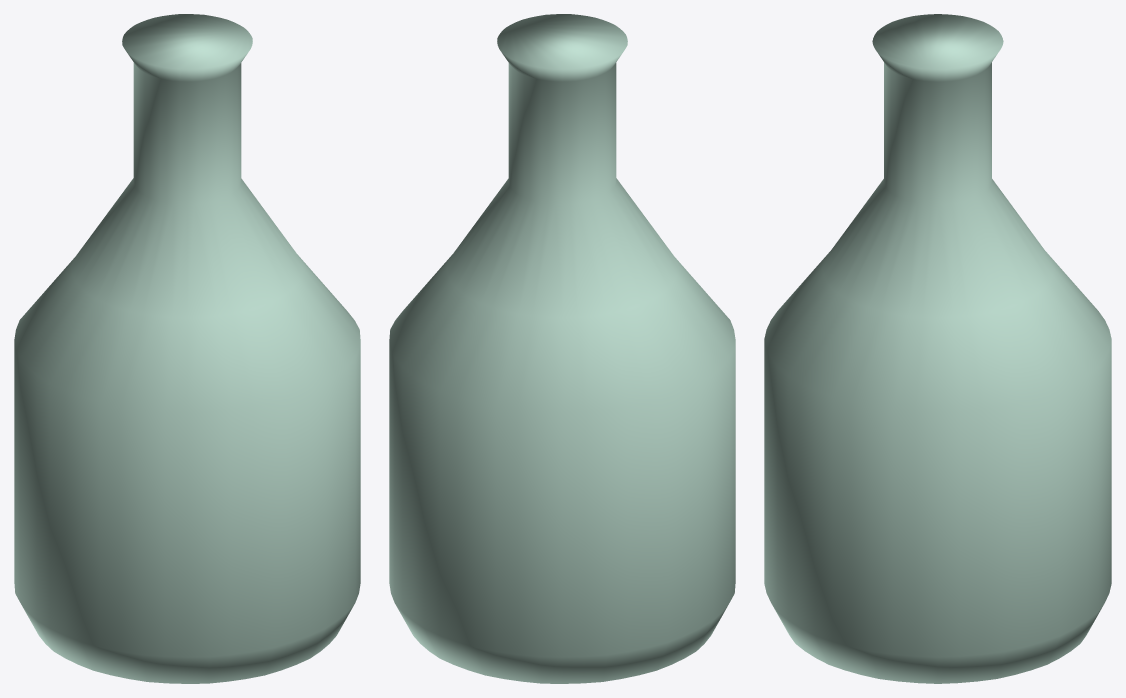
Rendered from example.gltf.
3 renders of one model, left to right at view 1: azimuth 30°, elevation 25°; view 2: azimuth 150°, elevation 25°; view 3: azimuth 270°, elevation 25°, orthographic.
Parts seen in each view (by area): view 1: loft; view 2: loft; view 3: loft.
Boxes of the visible parts, x1,y1,x2,y2 form: loft: (14, 14, 360, 683); loft: (389, 14, 735, 683); loft: (764, 14, 1111, 683).
Bounding box in the file's own units: 0.9 × 1.65 × 0.9.
